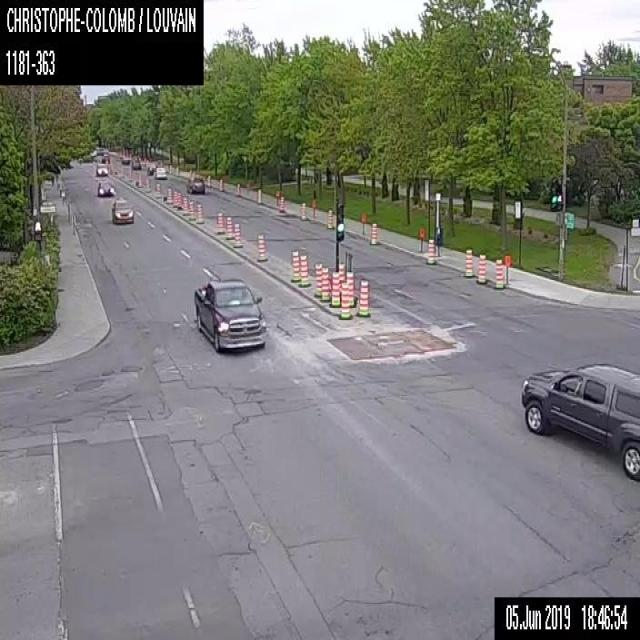construction: (355, 278, 370, 316), (338, 281, 352, 319), (328, 270, 341, 306), (297, 254, 310, 286), (345, 270, 356, 306), (319, 266, 330, 301), (492, 258, 504, 288), (290, 249, 300, 281), (476, 253, 486, 283), (313, 262, 321, 296), (256, 233, 266, 260), (464, 248, 473, 277), (232, 222, 242, 247), (224, 215, 234, 239), (426, 237, 434, 264), (338, 261, 344, 297), (216, 211, 225, 233), (369, 221, 377, 244), (195, 202, 203, 222), (504, 253, 509, 284), (326, 209, 334, 228), (418, 227, 424, 252), (360, 212, 366, 234), (188, 200, 194, 220), (166, 187, 172, 203), (300, 201, 305, 220), (182, 196, 187, 214), (279, 196, 284, 212), (275, 189, 279, 205), (173, 190, 177, 206), (177, 192, 181, 208), (312, 198, 315, 218), (156, 181, 160, 196), (257, 188, 261, 201), (145, 177, 149, 190), (207, 174, 210, 187), (138, 173, 141, 186), (219, 178, 222, 190), (237, 182, 240, 193), (188, 168, 192, 176), (175, 166, 178, 176), (169, 164, 171, 174), (192, 169, 195, 175)
vehicle: (520, 360, 639, 481), (193, 275, 268, 353), (111, 197, 134, 223), (186, 175, 204, 192), (97, 180, 114, 196), (95, 161, 108, 176), (153, 166, 167, 179), (146, 162, 157, 173), (131, 159, 141, 169), (121, 155, 129, 164)
